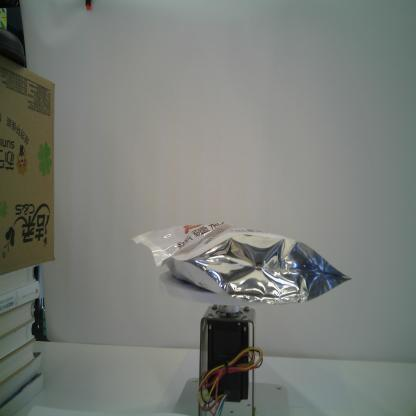Dried Food: (130, 216, 353, 310)
